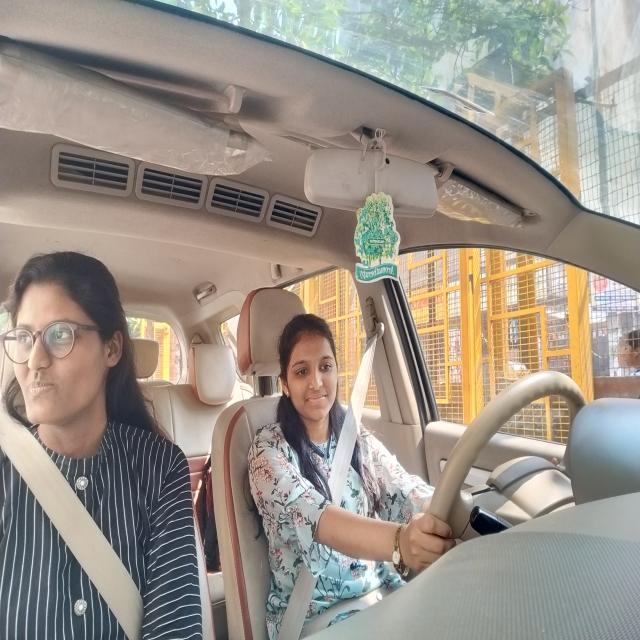person: (0, 243, 135, 430), (280, 312, 340, 425)
